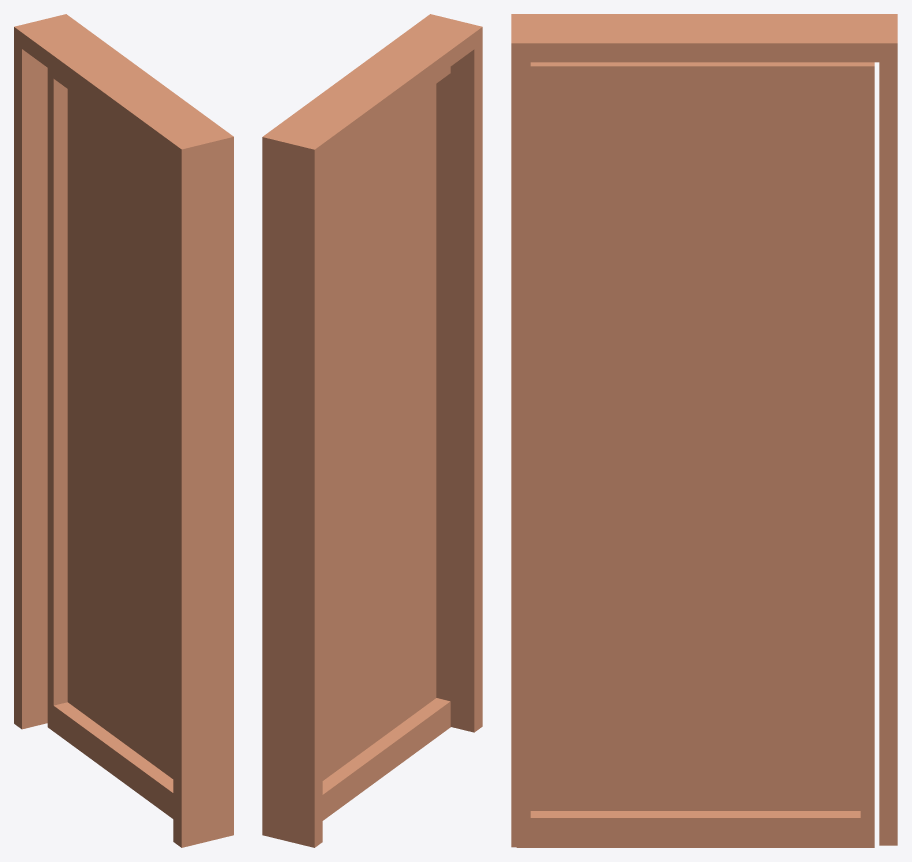
The model's file is Door.glb.
The picture shows the model from 3 angles, left to right: view 1: azimuth 30°, elevation 25°; view 2: azimuth 150°, elevation 25°; view 3: azimuth 270°, elevation 25°; orthographic projection. The views are drawn at different scales.
Parts seen in each view (by area): view 1: Cube.001; view 2: Cube.001; view 3: Cube.001.
Part boxes in pixels (x1,y1,x2,y2): Cube.001: (14,14,233,847); Cube.001: (262,14,482,847); Cube.001: (511,14,897,847).
Bounding box in the file's own units: 0.1606 × 2.05 × 0.8924.
